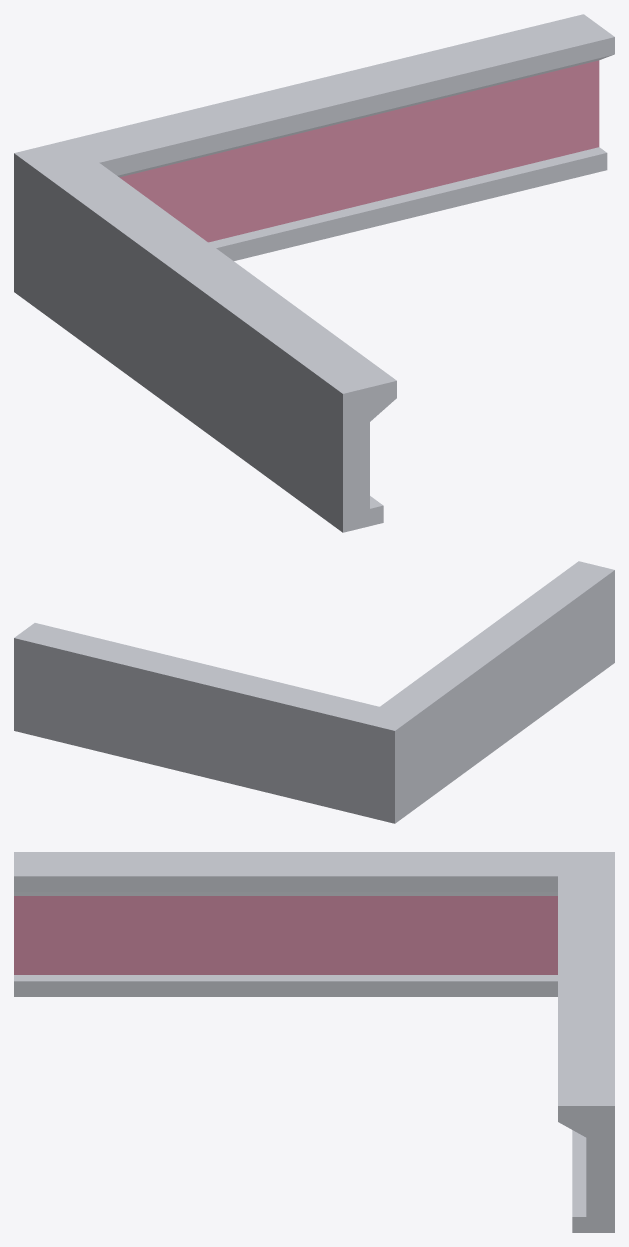
3 renders of one model, top to bottom at view 1: azimuth 30°, elevation 25°; view 2: azimuth 150°, elevation 25°; view 3: azimuth 270°, elevation 25°, orthographic. The views are drawn at different scales.
Parts seen in each view (by area): view 1: object_026-col; view 2: object_026-col; view 3: object_026-col.
Part boxes in pixels (x1,y1,x2,y2): object_026-col: (14, 14, 614, 532); object_026-col: (14, 561, 614, 823); object_026-col: (14, 852, 614, 1232).
Bounding box in the file's own units: 1 × 0.2329 × 1.
